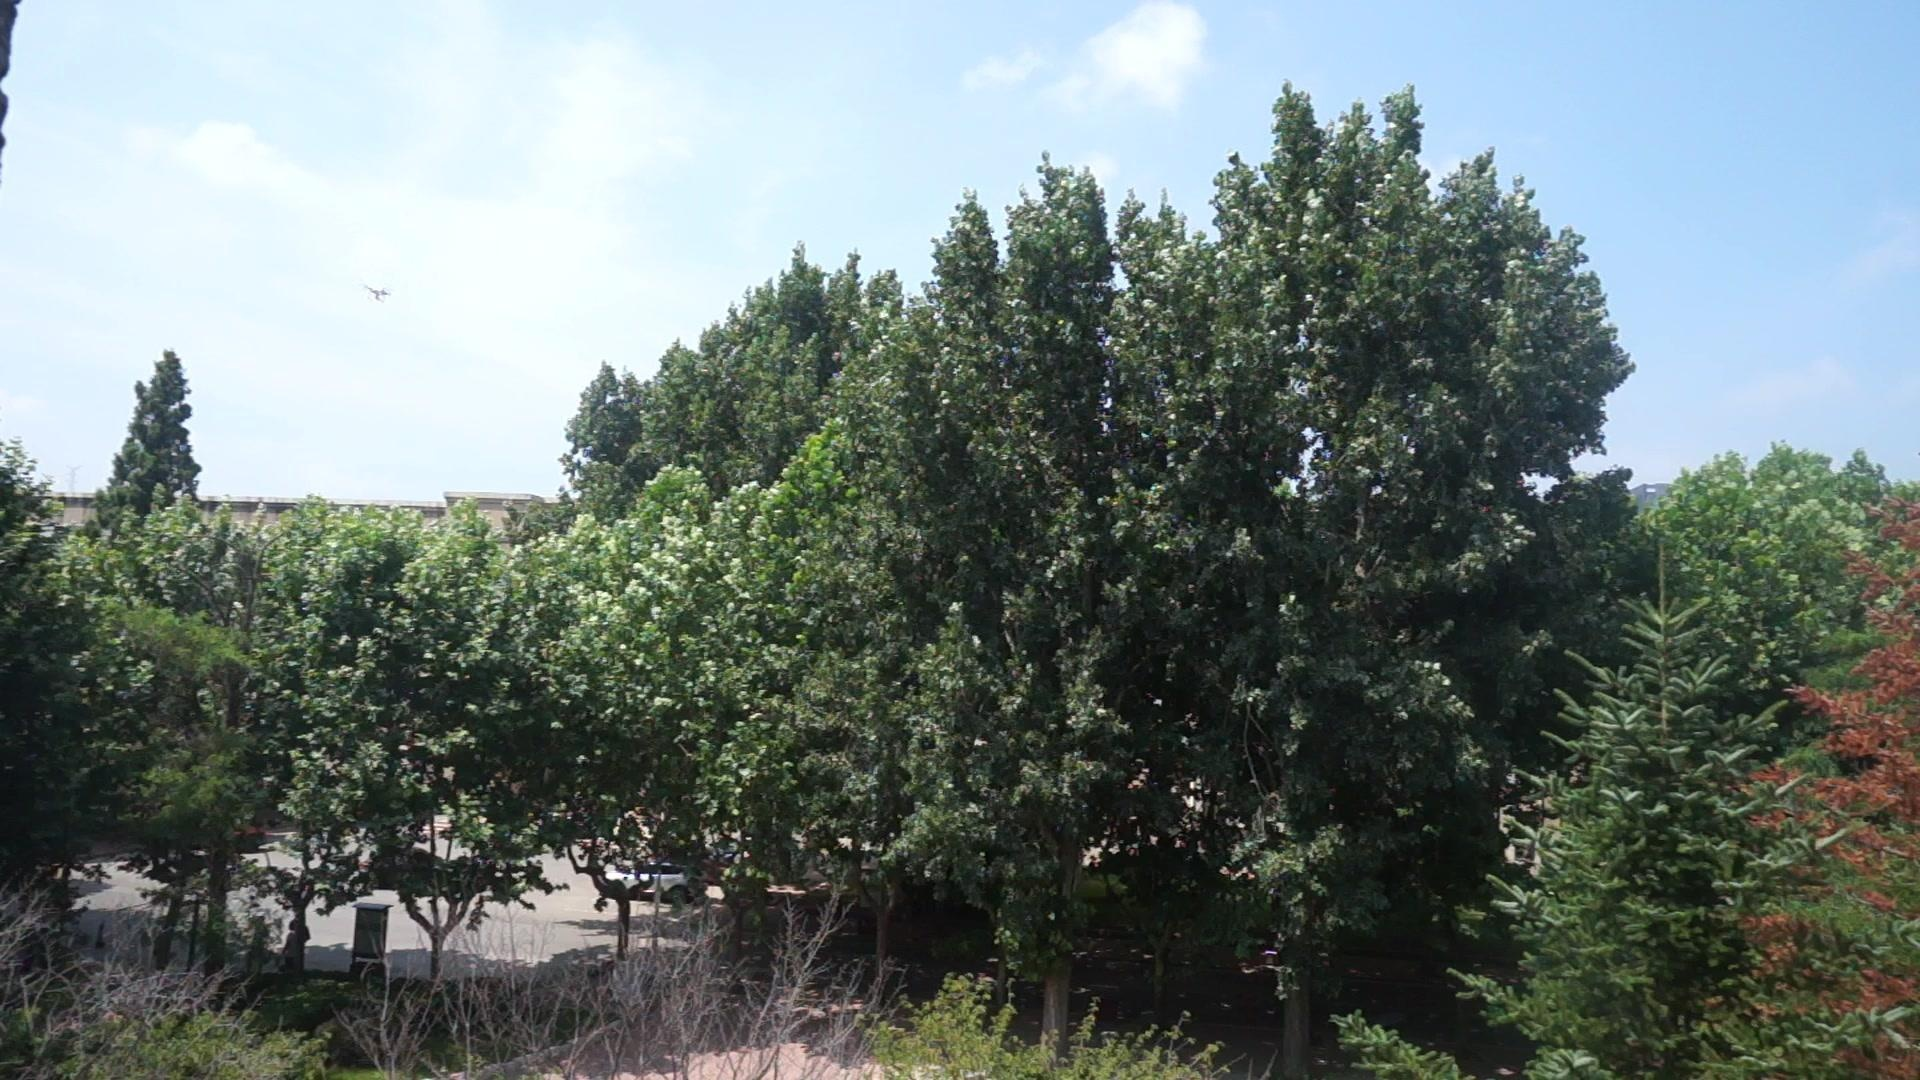UAV: (365, 286, 392, 305)
